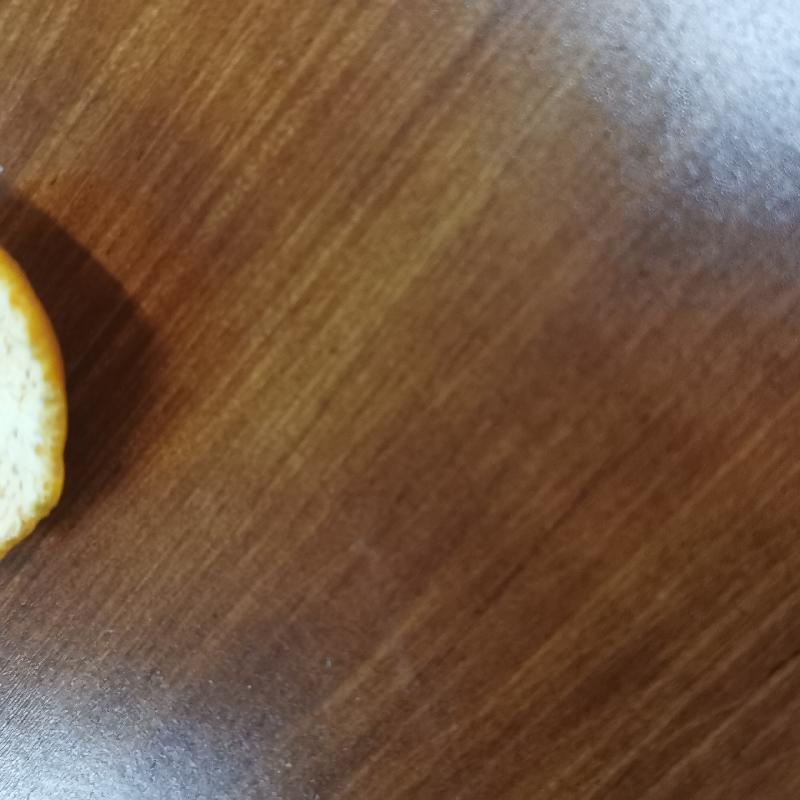orange: (0, 229, 72, 567)
